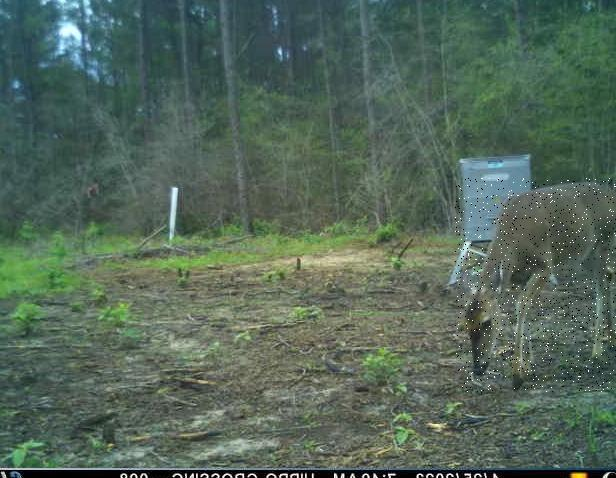Deer: (455, 178, 616, 393)
